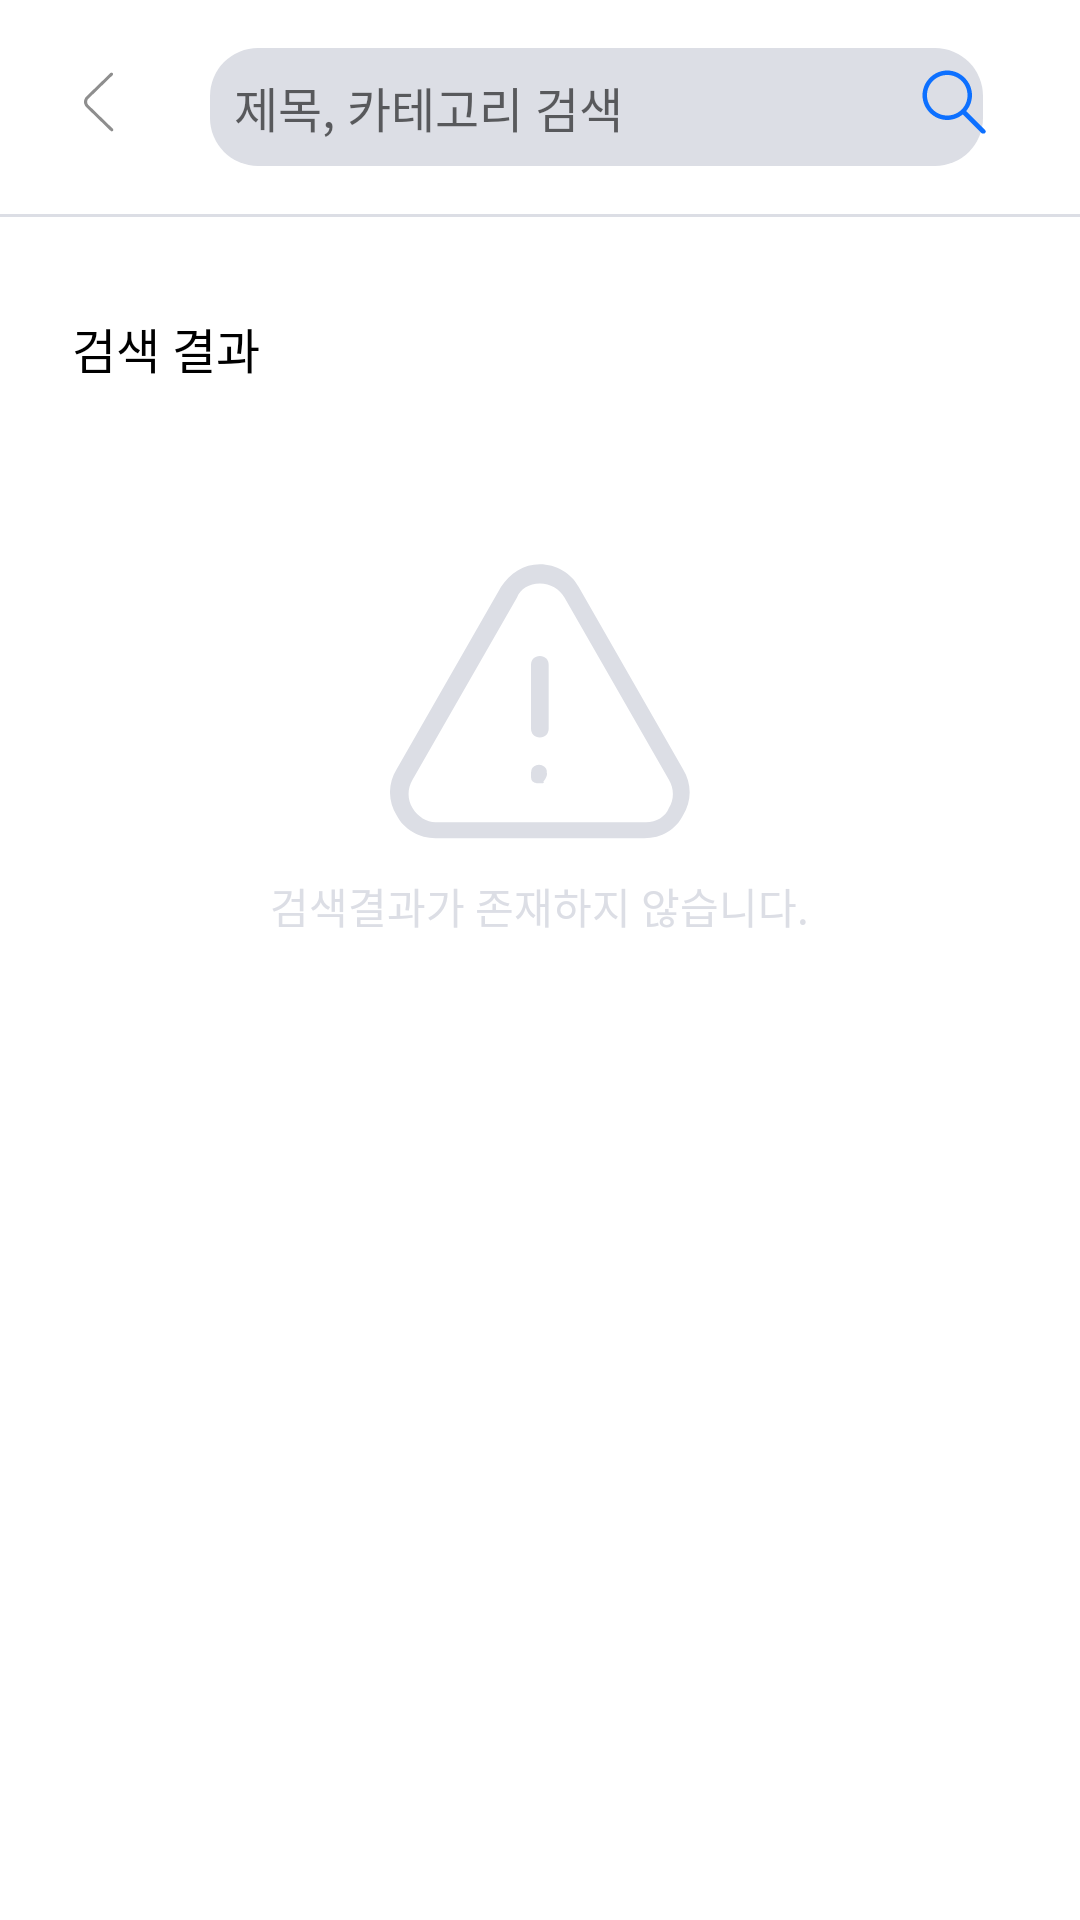

Where icons sit on this 1080px×1920px app screen, as bbox=[x1, y1, x2, y2]:
backbutton: bbox=[84, 72, 113, 132]
searchblue: bbox=[900, 48, 986, 156]
